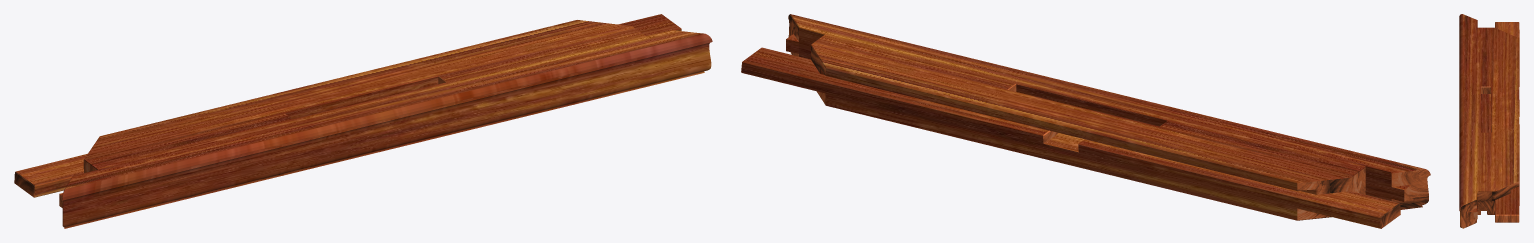
File: quanyi_J_D_dabian_hou.FBX
3 views of the same model, side by side, from view 1: azimuth 30°, elevation 25°; view 2: azimuth 150°, elevation 25°; view 3: azimuth 270°, elevation 25° (orthographic). The views are drawn at different scales.
Visible parts, largest first — view 1: quanyi_J_D_dabian_hou; view 2: quanyi_J_D_dabian_hou; view 3: quanyi_J_D_dabian_hou.
Boxes of the visible parts, x1,y1,x2,y2 form: quanyi_J_D_dabian_hou: (14,14,712,228); quanyi_J_D_dabian_hou: (741,14,1430,228); quanyi_J_D_dabian_hou: (1459,14,1519,228).
Bounding box in the file's own units: 60.87 × 3.52 × 8.01.
2 materials, 2 textured.
